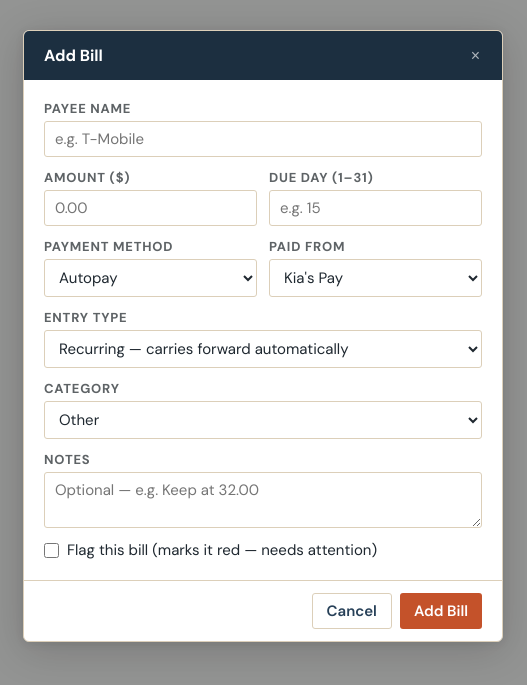
Scenario: BillForm › validation › shows error when amount is empty on submit
Type "T-Mobile" into the field labelled "Payee Name" at (263, 139), box [44,121,482,157]
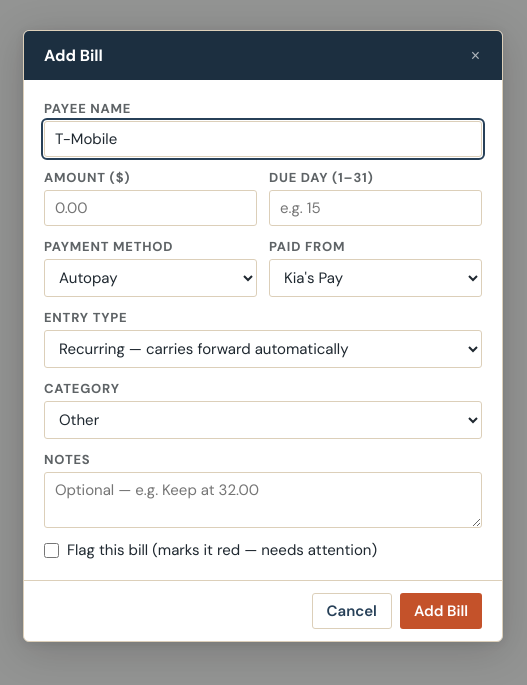
Click the button "Add Bill" at (441, 611), box [400,593,482,629]
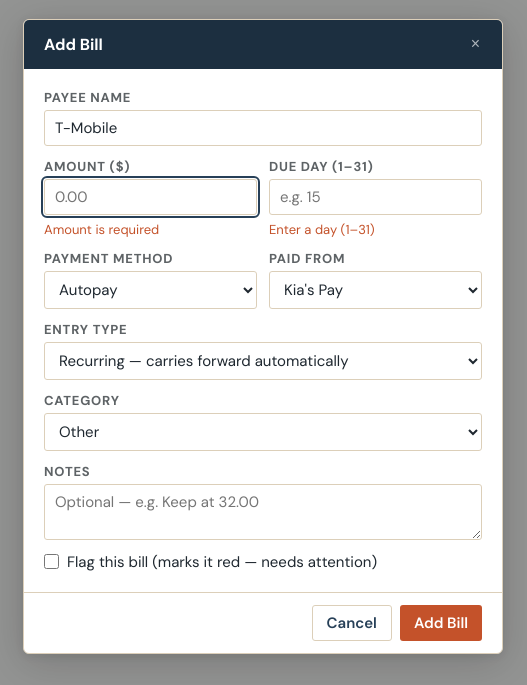
Expected: the text "Amount is required" is shown, [44,220,159,238]
